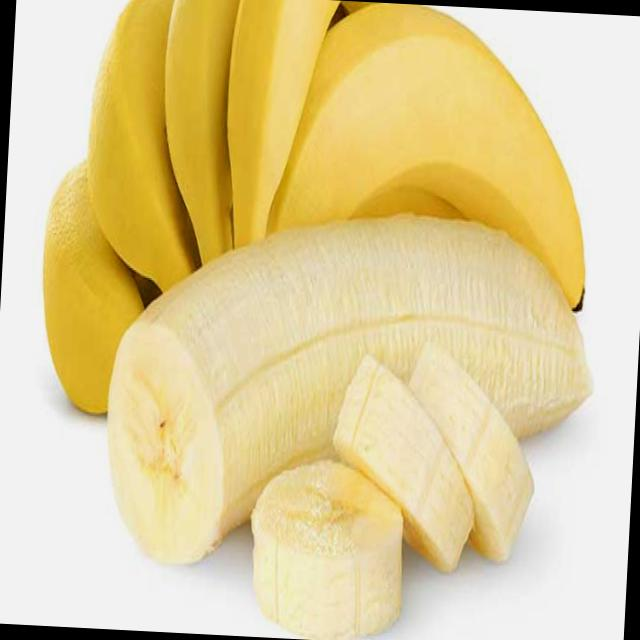banana: (100, 210, 612, 582), (244, 0, 616, 371), (28, 120, 178, 424)
